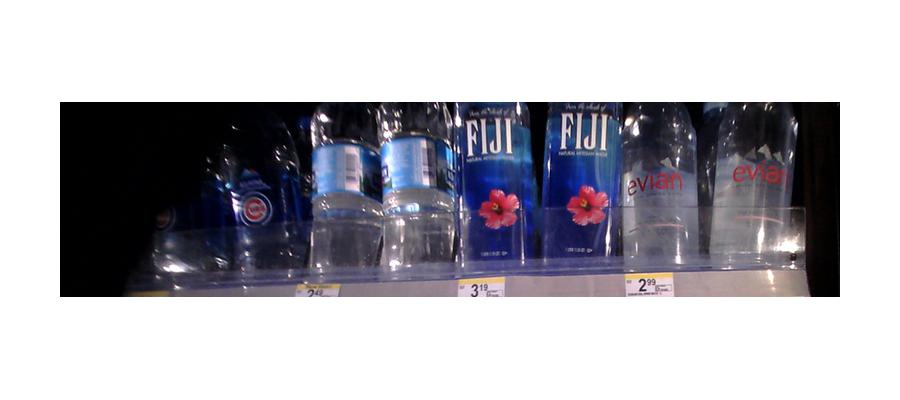bottle: (708, 97, 798, 267), (378, 109, 459, 274), (457, 105, 538, 266), (231, 110, 305, 284), (625, 99, 702, 266), (307, 101, 380, 277), (151, 137, 236, 284), (544, 104, 623, 262)
